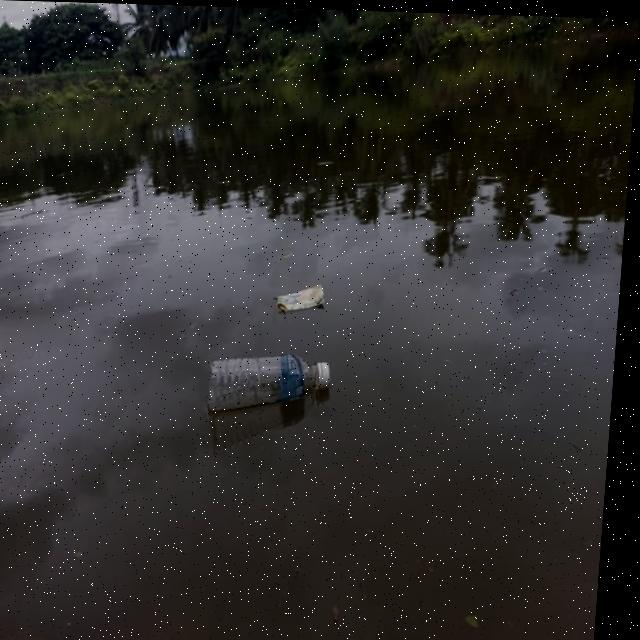paper: (260, 272, 334, 324)
waterbottle: (200, 342, 351, 432)
